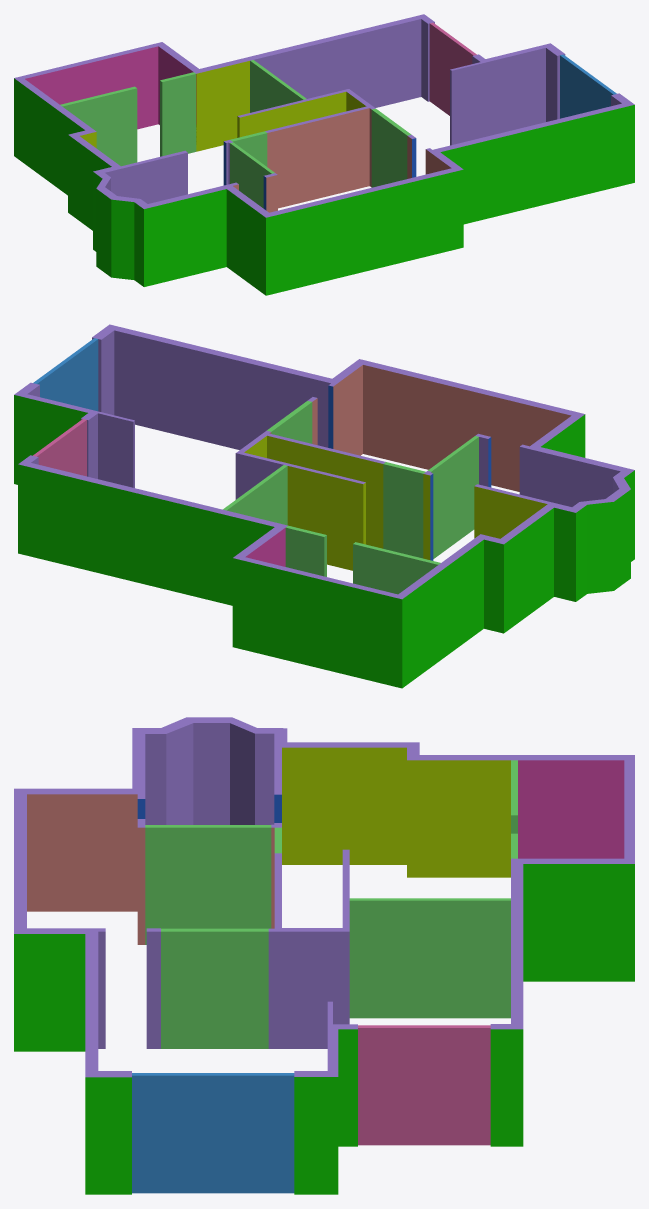
The model's file is laundry_single.fbx.
3 views of the same model, one above another, from view 1: azimuth 30°, elevation 25°; view 2: azimuth 150°, elevation 25°; view 3: azimuth 270°, elevation 25° (orthographic). The views are drawn at different scales.
Visible parts, largest first — view 1: waende, storage destructive left, storage destructive right, laundry double destructive, car side destructive, ship side destructive, car side destructive back, stairs destructive, laundry single destructive; view 2: waende, stairs destructive, laundry single destructive, ship side destructive, storage destructive left, car side destructive back, car side destructive, storage destructive right, laundry double destructive; view 3: waende, ship side destructive, car side destructive back, car side destructive, stairs destructive, laundry double destructive.
Boxes of the visible parts, x1,y1,x2,y2 form: waende: (14, 14, 634, 295); storage destructive left: (60, 86, 137, 166); storage destructive right: (160, 72, 196, 156); laundry double destructive: (371, 108, 410, 187); car side destructive: (429, 22, 476, 115); ship side destructive: (560, 54, 616, 118); car side destructive back: (250, 60, 306, 112); stairs destructive: (230, 142, 274, 208); laundry single destructive: (230, 131, 267, 166); waende: (14, 324, 634, 688); stairs destructive: (427, 436, 478, 558); laundry single destructive: (383, 462, 425, 558); ship side destructive: (33, 338, 98, 411); storage destructive left: (353, 542, 440, 594); car side destructive back: (223, 465, 287, 525); car side destructive: (33, 419, 86, 476); storage destructive right: (285, 525, 326, 576); laundry double destructive: (267, 401, 312, 443); waende: (14, 717, 634, 1194); ship side destructive: (132, 1073, 294, 1193); car side destructive back: (349, 898, 510, 1018); car side destructive: (358, 1025, 490, 1145); stairs destructive: (145, 825, 271, 944); laundry double destructive: (161, 928, 268, 1048).
Bounding box in the file's own units: 716 × 109 × 522.
